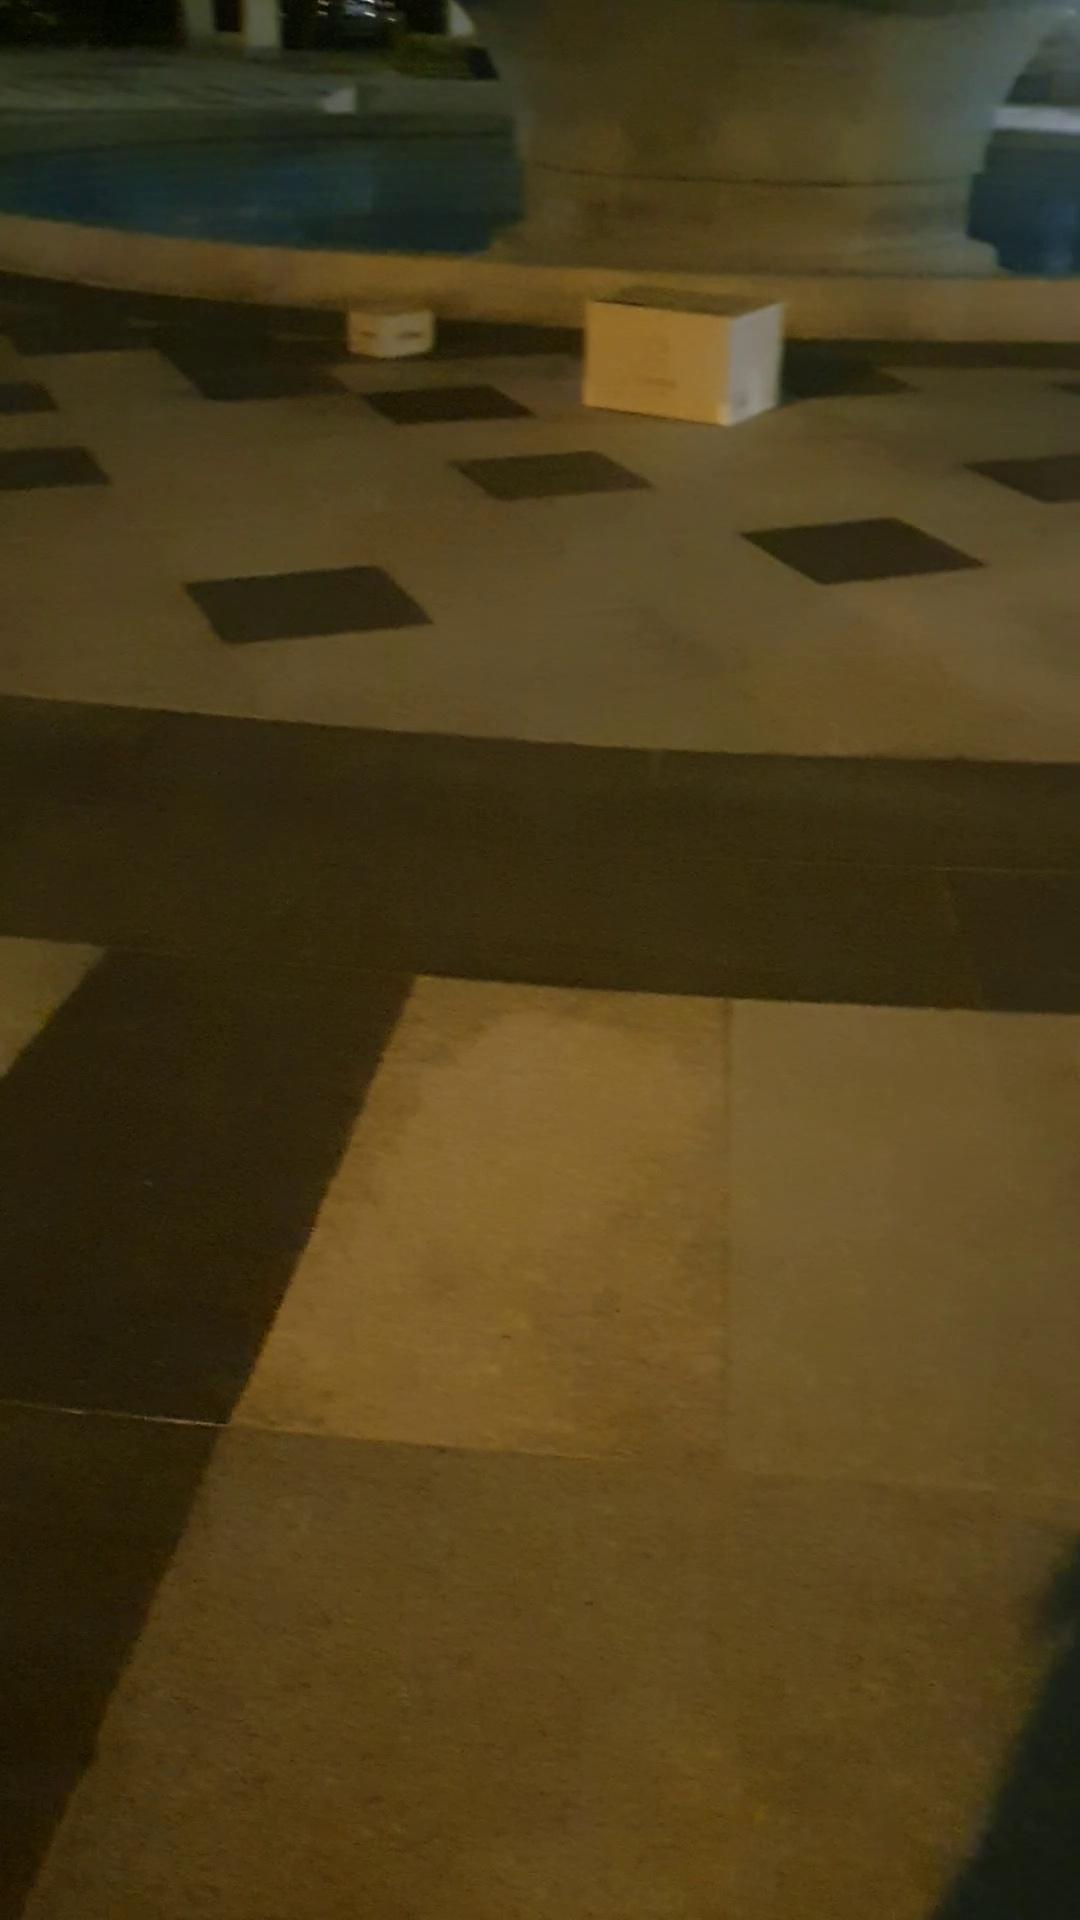Box: (571, 280, 795, 430), (338, 285, 444, 363)
